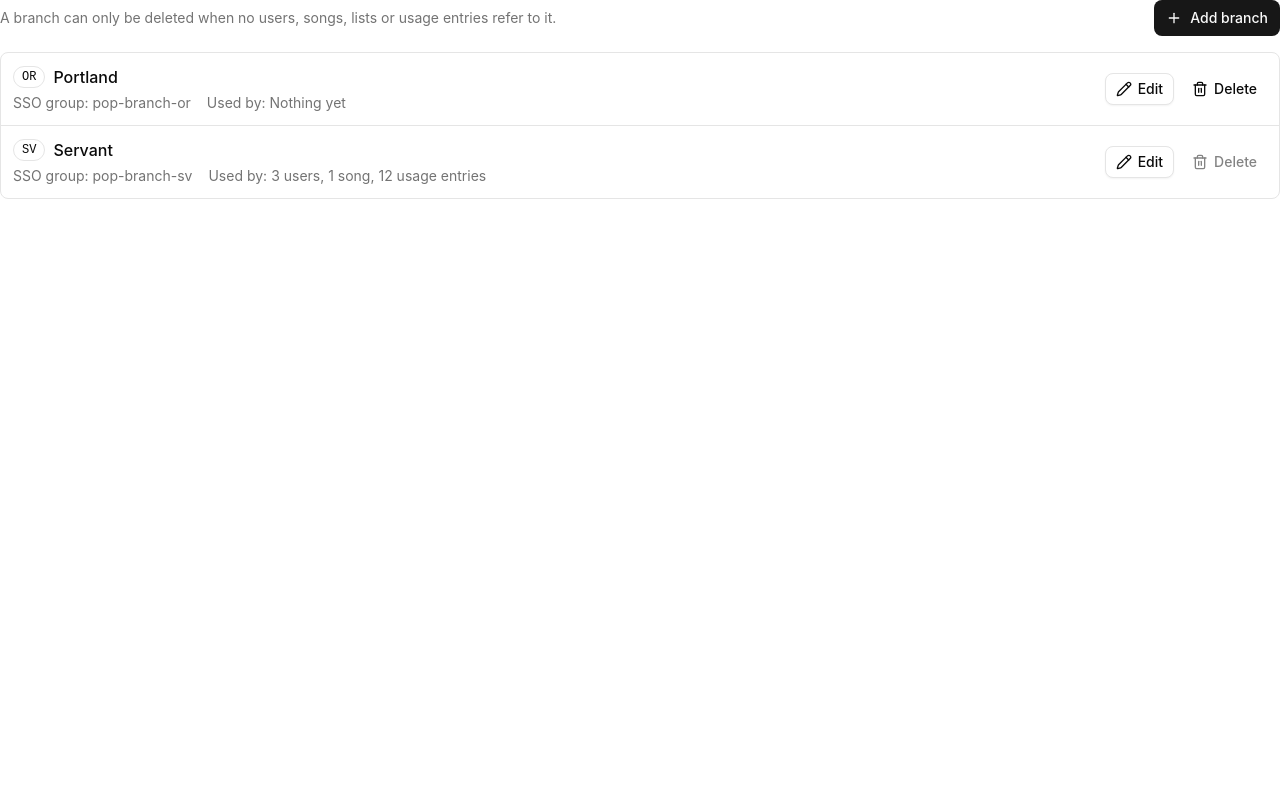
Scenario: BranchesAdmin › shows a code uniqueness error inline and keeps the dialog open
The image size is (1280, 800).
Click the button with aria-label "Edit Portland" at (1139, 89), box [1105, 73, 1174, 105]
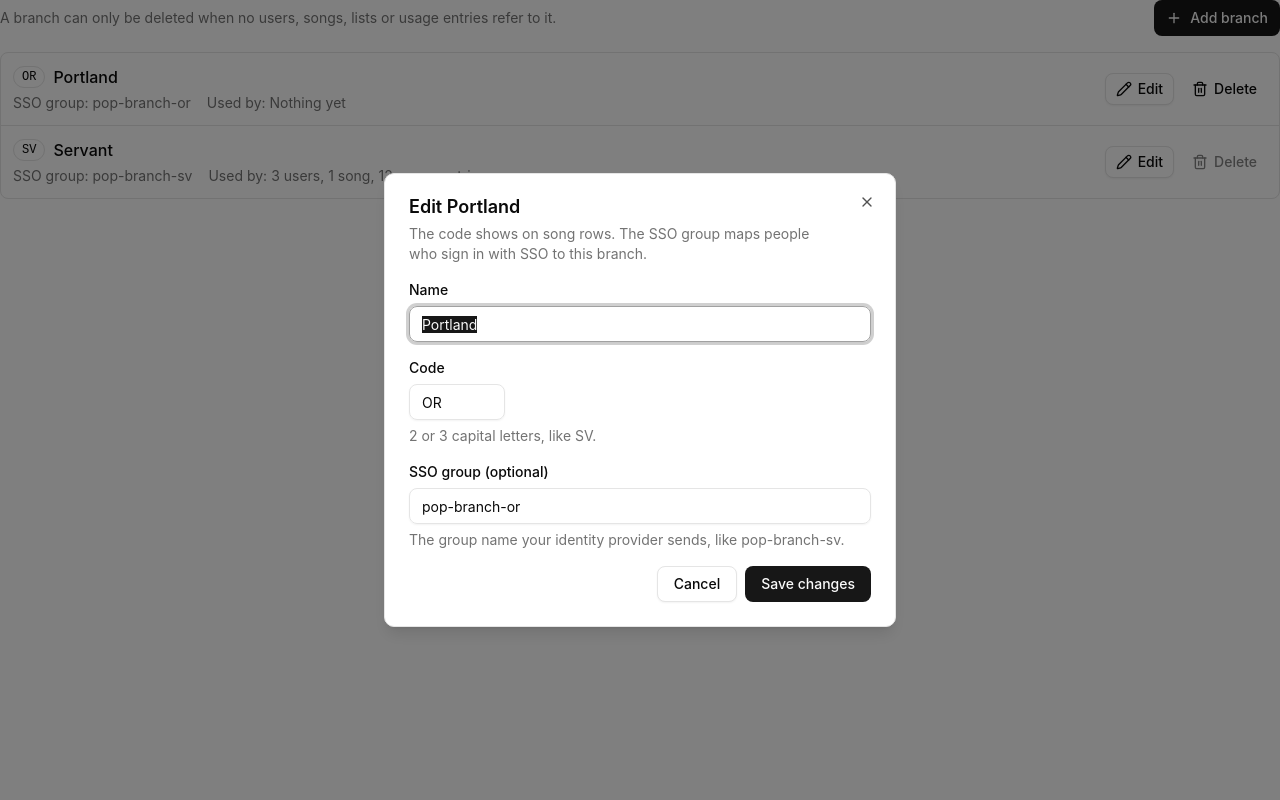
Replace the text in the field labelled "Code" with "SV" at (457, 402), box [409, 384, 505, 420]
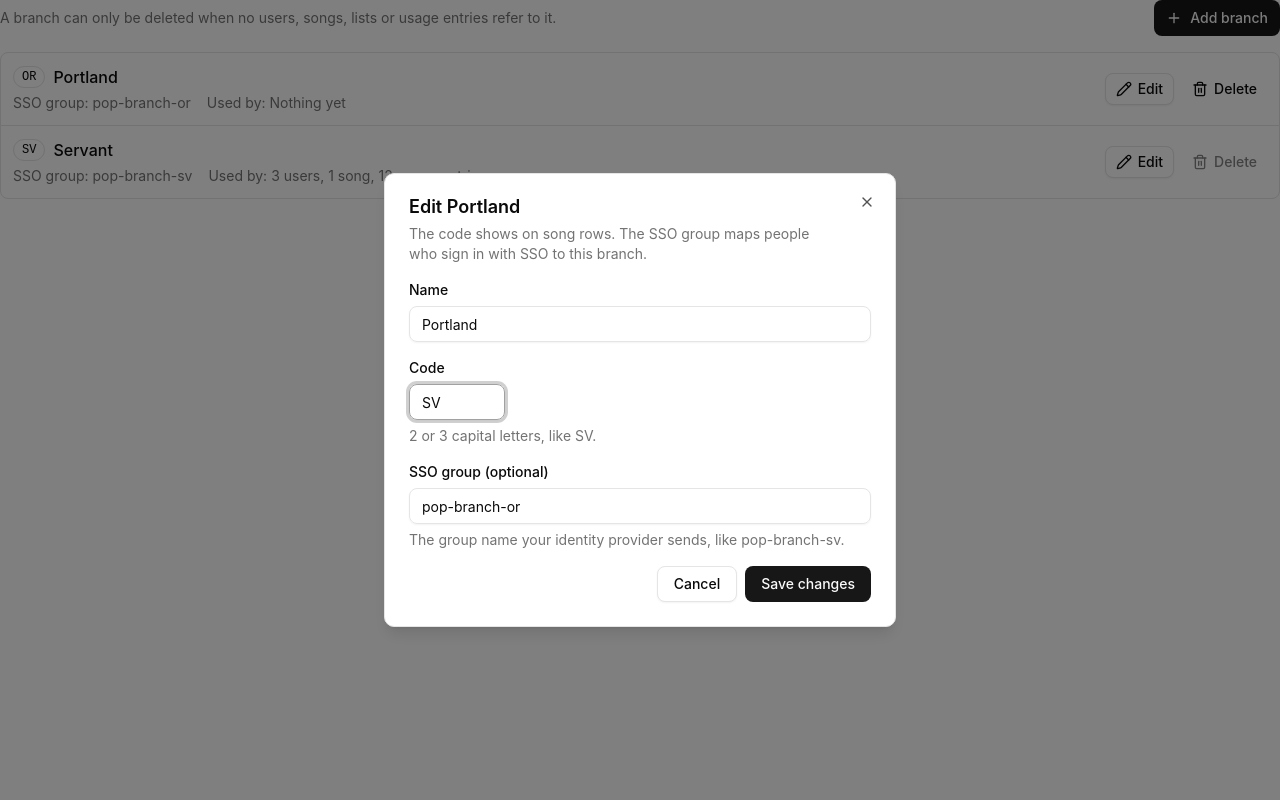
Click the button "Save changes" at (808, 584), box [745, 566, 871, 602]
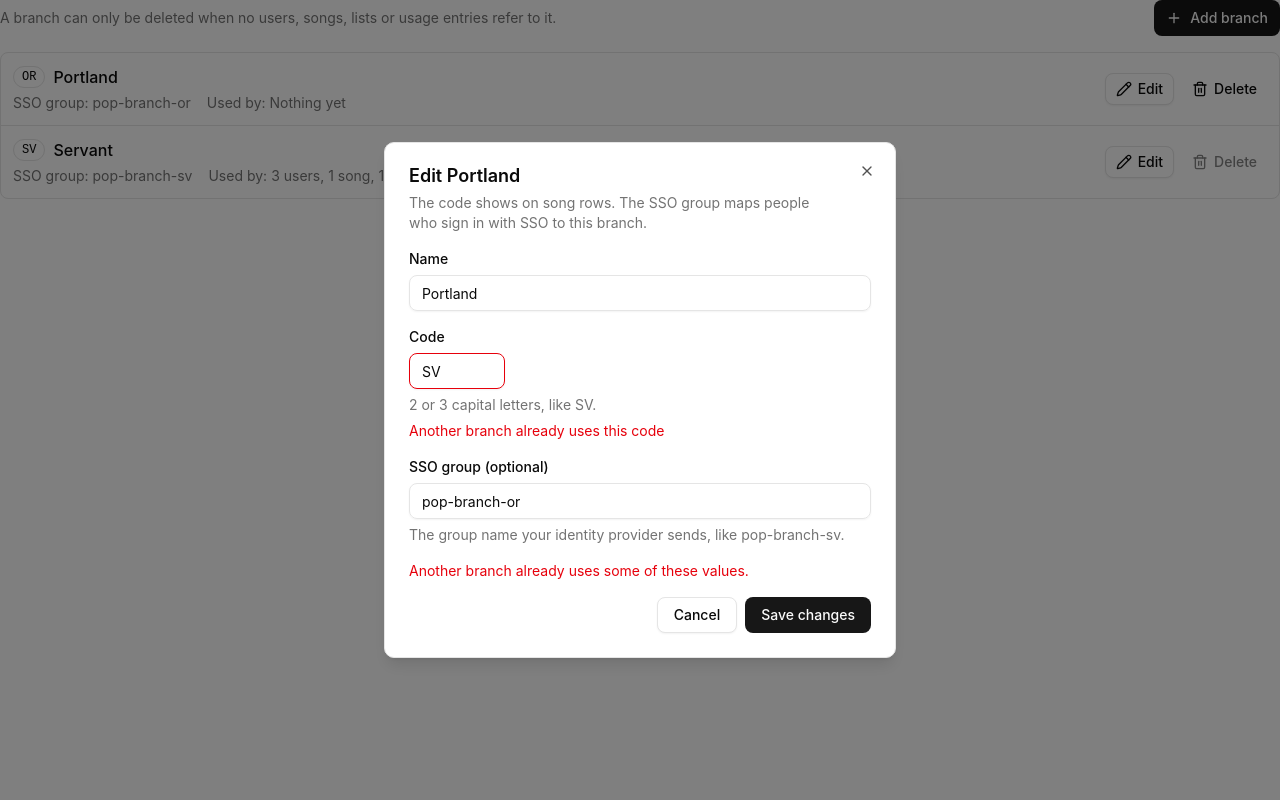
expect the dialog is shown: met, box [384, 142, 896, 658]
expect the text "Another branch already uses this code" is shown: met, box [409, 422, 664, 439]
expect the message shows "already uses some": met, box [409, 562, 749, 579]
